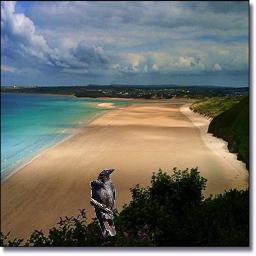Crow: (90, 168, 116, 236)
